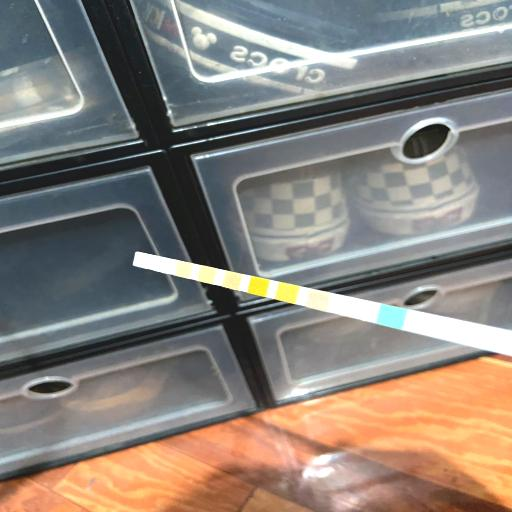Bilirubin: (342, 300, 364, 316)
Blood: (250, 280, 268, 294)
Glucose: (379, 308, 404, 324)
Ketone: (310, 292, 328, 308)
Leukocytes: (136, 254, 146, 266)
Nitrite: (156, 258, 168, 270)
Protein: (200, 268, 214, 281)
SpGravity: (278, 286, 296, 300)
Urobilinogen: (176, 262, 190, 276)
pH: (225, 274, 240, 288)
strip: (132, 251, 512, 355)
